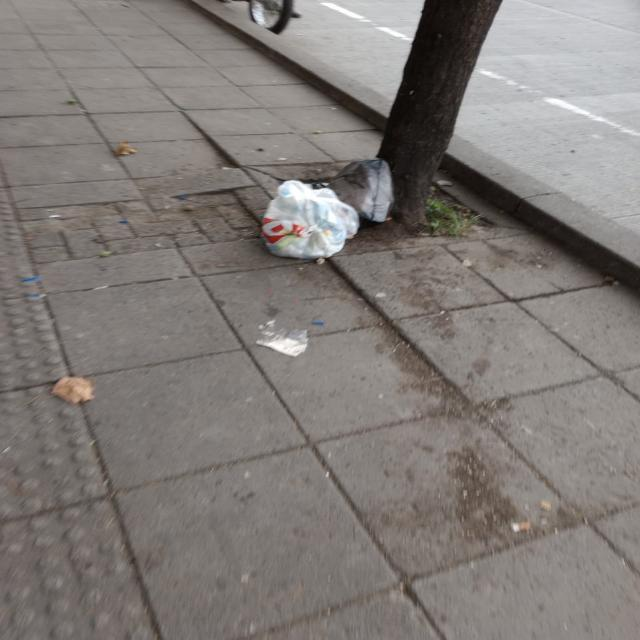Garbage_Bag: (255, 174, 372, 265), (328, 156, 404, 228)
